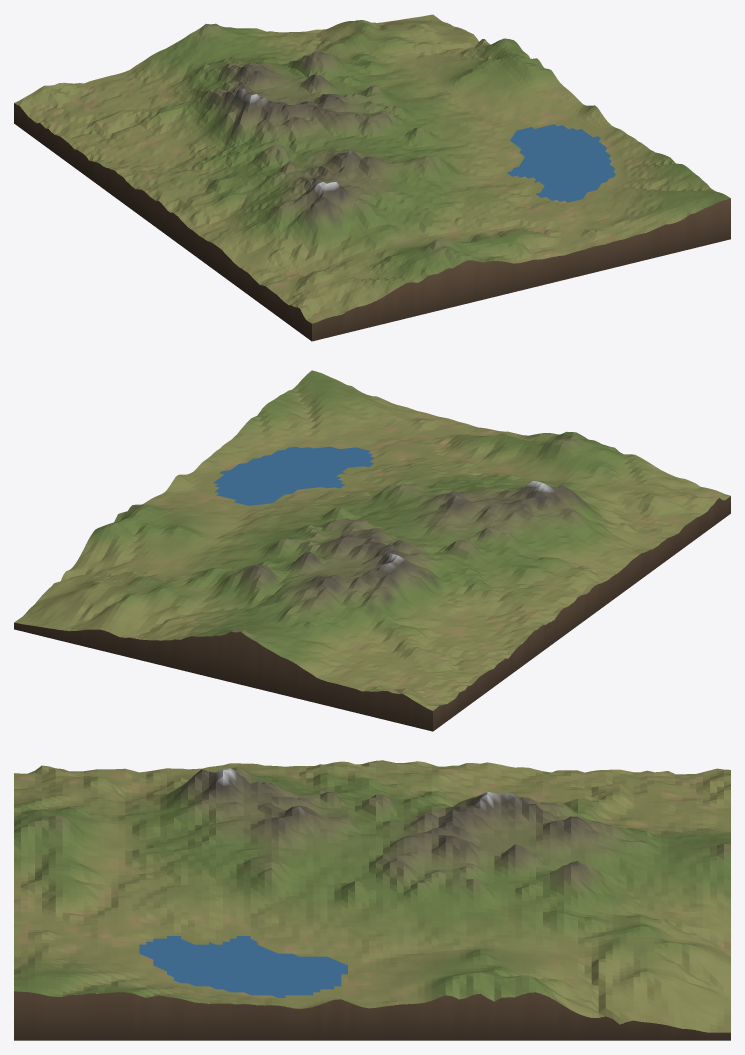
Rendered from javakheti-relief-lod1.glb.
The picture shows the model from 3 angles, top to bottom: view 1: azimuth 30°, elevation 25°; view 2: azimuth 150°, elevation 25°; view 3: azimuth 270°, elevation 25°; orthographic projection. The views are drawn at different scales.
Parts seen in each view (by area): view 1: terrain, plinth, water; view 2: terrain, plinth, water; view 3: terrain, plinth, water.
Boxes of the visible parts, x1=… form: terrain: x1=14, y1=14, x2=730, y2=323; plinth: x1=14, y1=103, x2=730, y2=341; water: x1=507, y1=124, x2=615, y2=202; terrain: x1=14, y1=370, x2=730, y2=710; plinth: x1=14, y1=496, x2=730, y2=731; water: x1=213, y1=446, x2=374, y2=505; terrain: x1=14, y1=760, x2=730, y2=1032; plinth: x1=14, y1=991, x2=730, y2=1040; water: x1=139, y1=936, x2=347, y2=997.
Bounding box in the file's own units: 23.35 × 3.71 × 28.75.
